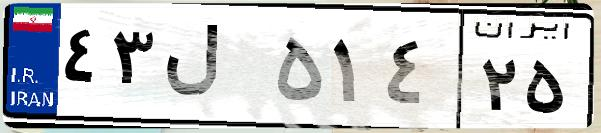1: (330, 28, 385, 110)
2: (475, 38, 525, 113)
3: (110, 28, 158, 98)
4: (385, 28, 445, 110), (57, 26, 110, 100)
5: (270, 28, 330, 110), (525, 38, 570, 115)
ل: (158, 20, 270, 120)
